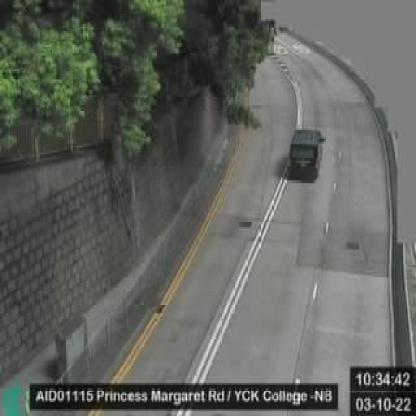Car: (287, 130, 324, 179)
